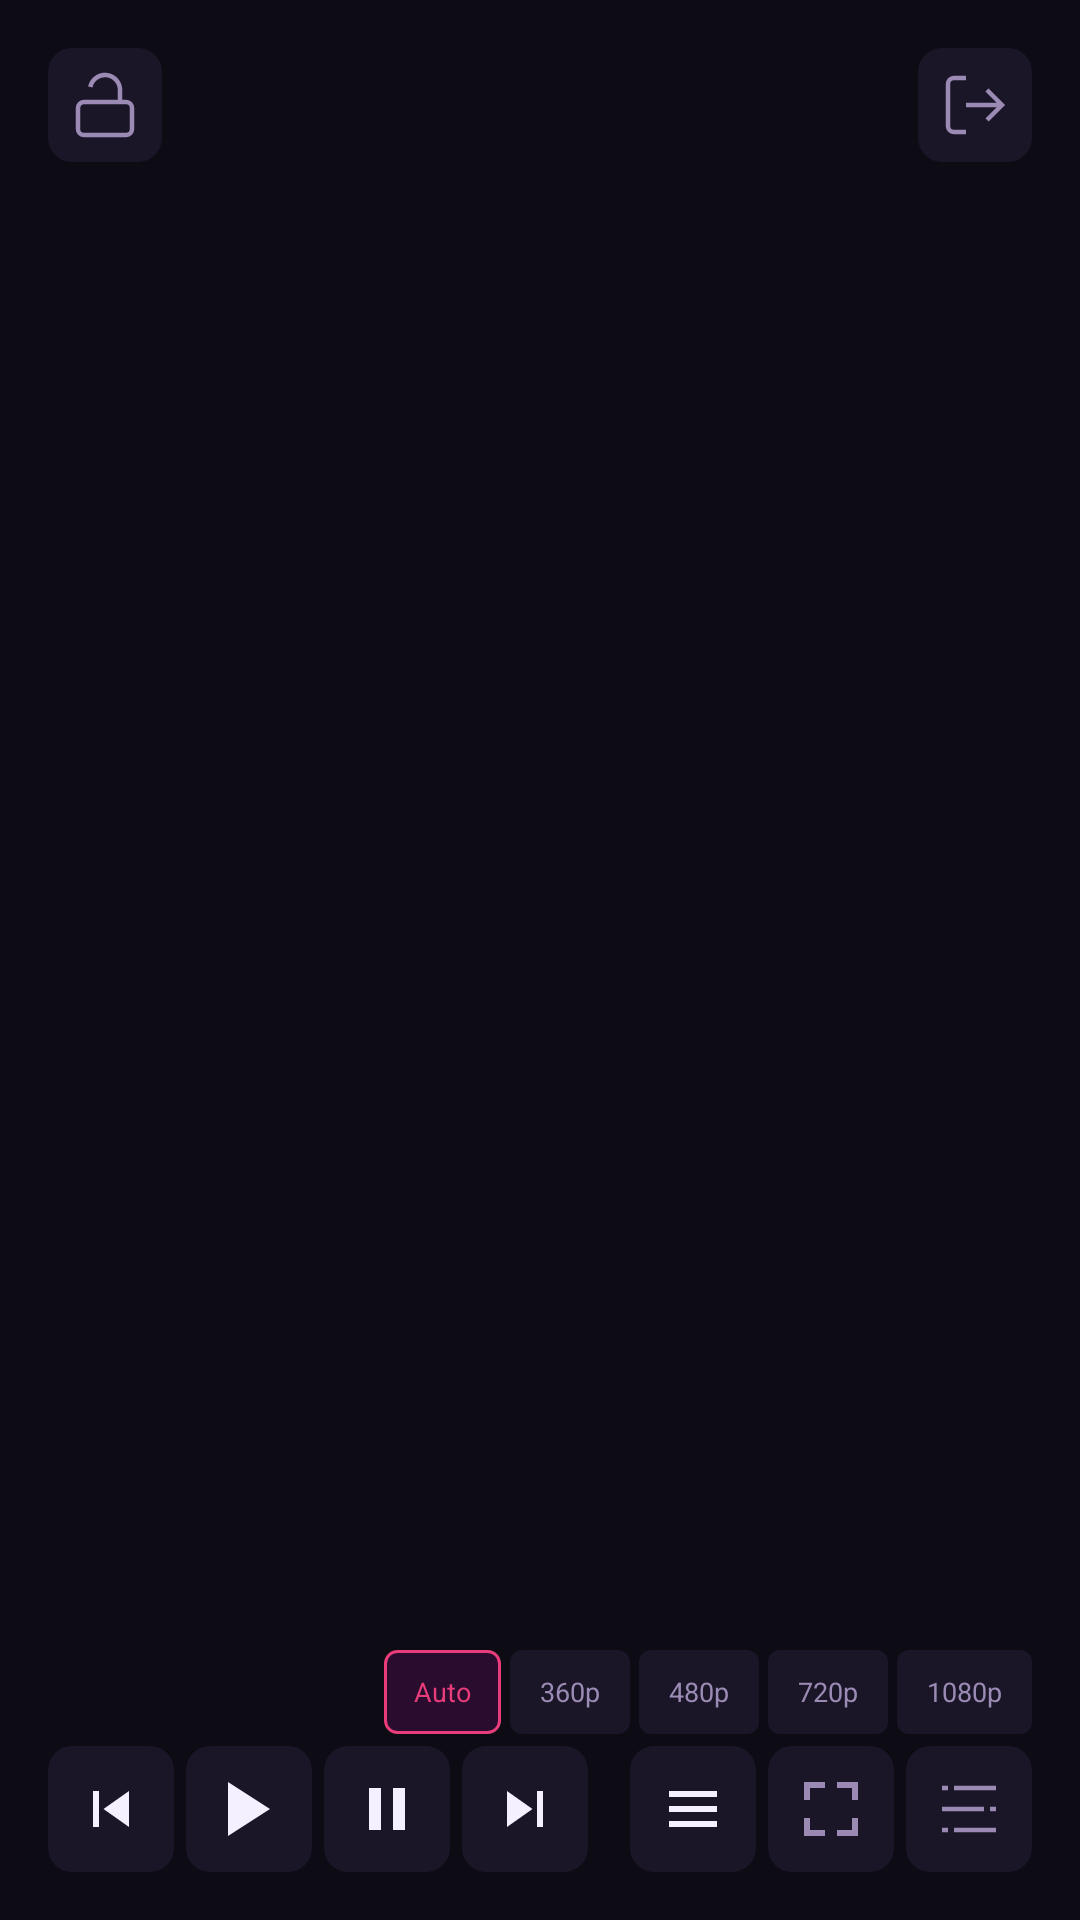

Screen size 1080 x 1920. Icon name, then its center in pixels as (x,y):
aspect ratio: (831,1809)
channel list: (693,1809)
exit: (975,105)
lock open: (105,105)
player next: (525,1809)
player previous: (111,1809)
track: (969,1809)
